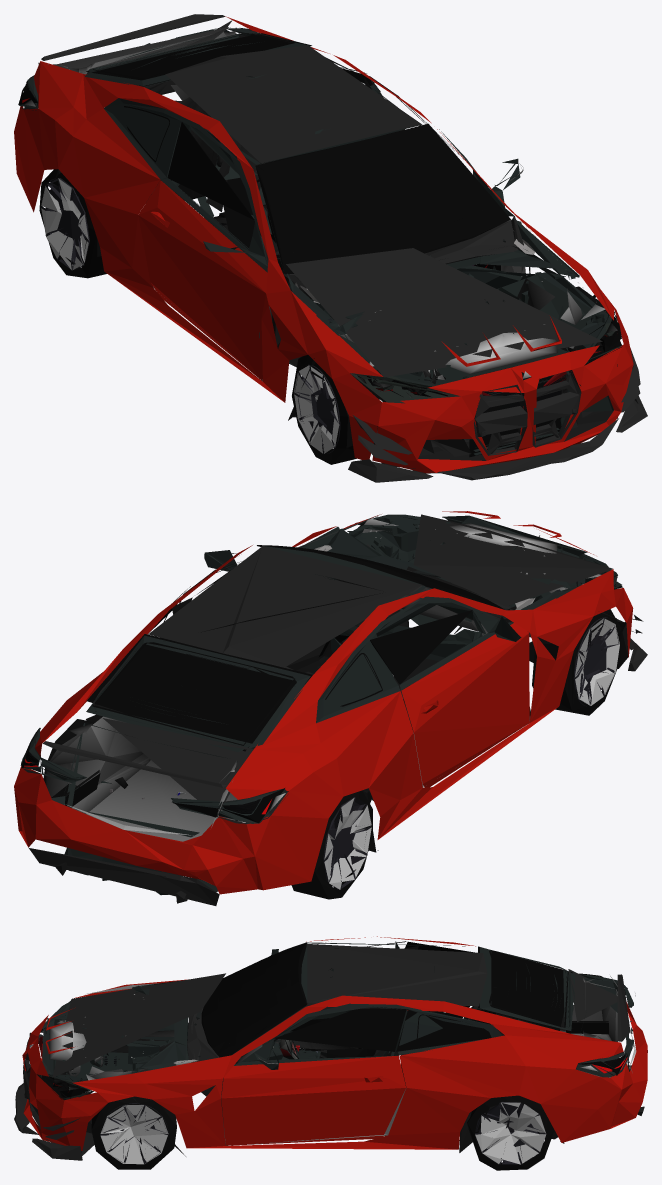
The model's file is sedan_bmw.glb.
3 views of the same model, one above another, from view 1: azimuth 30°, elevation 25°; view 2: azimuth 150°, elevation 25°; view 3: azimuth 270°, elevation 25° (orthographic). The views are drawn at different scales.
Visible parts, largest first — view 1: Object_4, Object_27; view 2: Object_4, Object_27; view 3: Object_4, Object_27.
Part boxes in pixels (bbox=[...]): Object_4: bbox=[14, 14, 647, 482]; Object_27: bbox=[19, 28, 621, 457]; Object_4: bbox=[14, 511, 647, 905]; Object_27: bbox=[21, 516, 617, 823]; Object_4: bbox=[14, 936, 647, 1170]; Object_27: bbox=[53, 941, 627, 1098].
Bounding box in the file's own units: 2.08 × 1.32 × 4.82.
